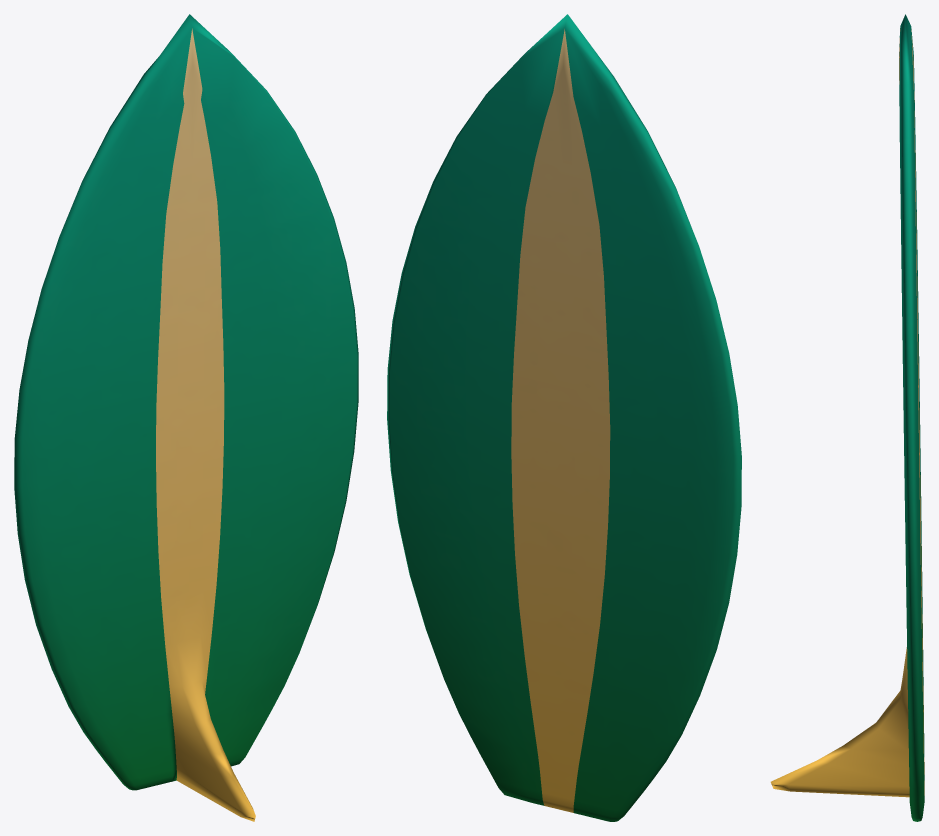
File: tabla2.fbx
3 views of the same model, side by side, from view 1: azimuth 30°, elevation 25°; view 2: azimuth 150°, elevation 25°; view 3: azimuth 270°, elevation 25° (orthographic). The views are drawn at different scales.
Visible parts, largest first — view 1: tabla2; view 2: tabla2; view 3: tabla2.
Boxes of the visible parts, left/top/right/bottom form: tabla2: left=14, top=14, right=358, bottom=821; tabla2: left=387, top=14, right=741, bottom=821; tabla2: left=770, top=14, right=924, bottom=821.
Size of the model in its own units: 81.87 by 174 by 31.13.
Materials: 1 (1 with a texture image).
